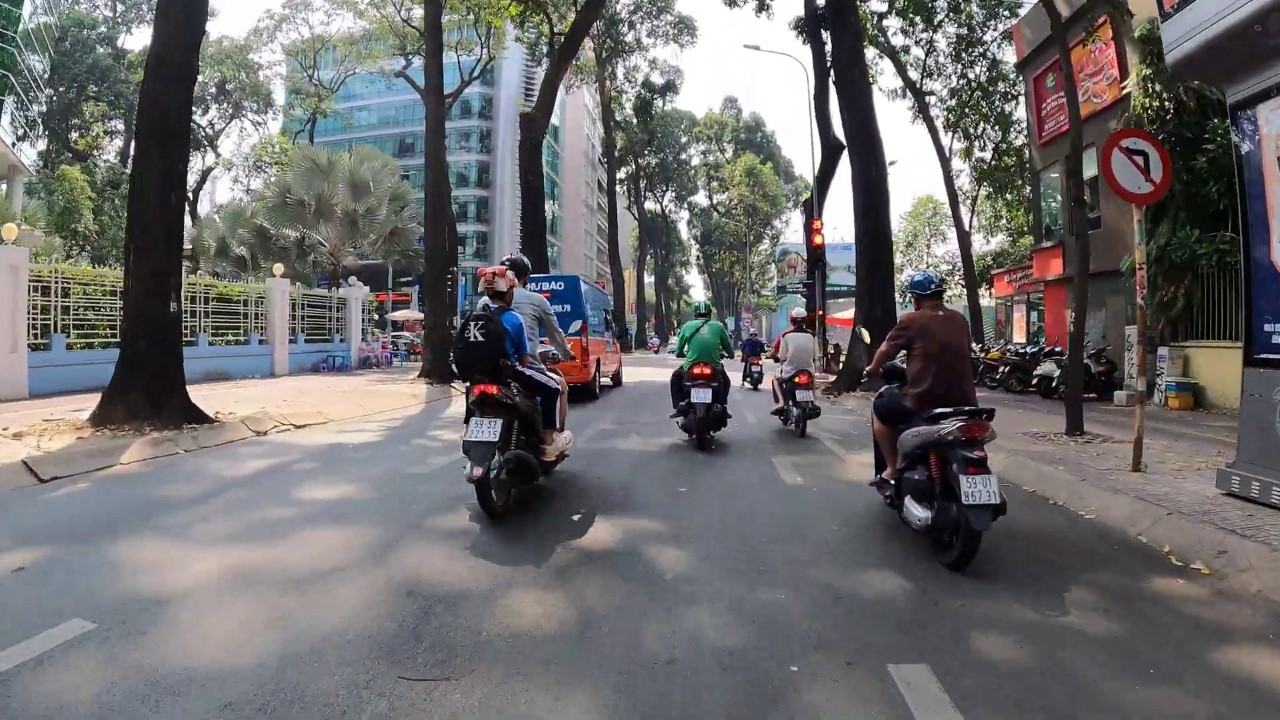cam_re_trai: (1099, 127, 1173, 205)
